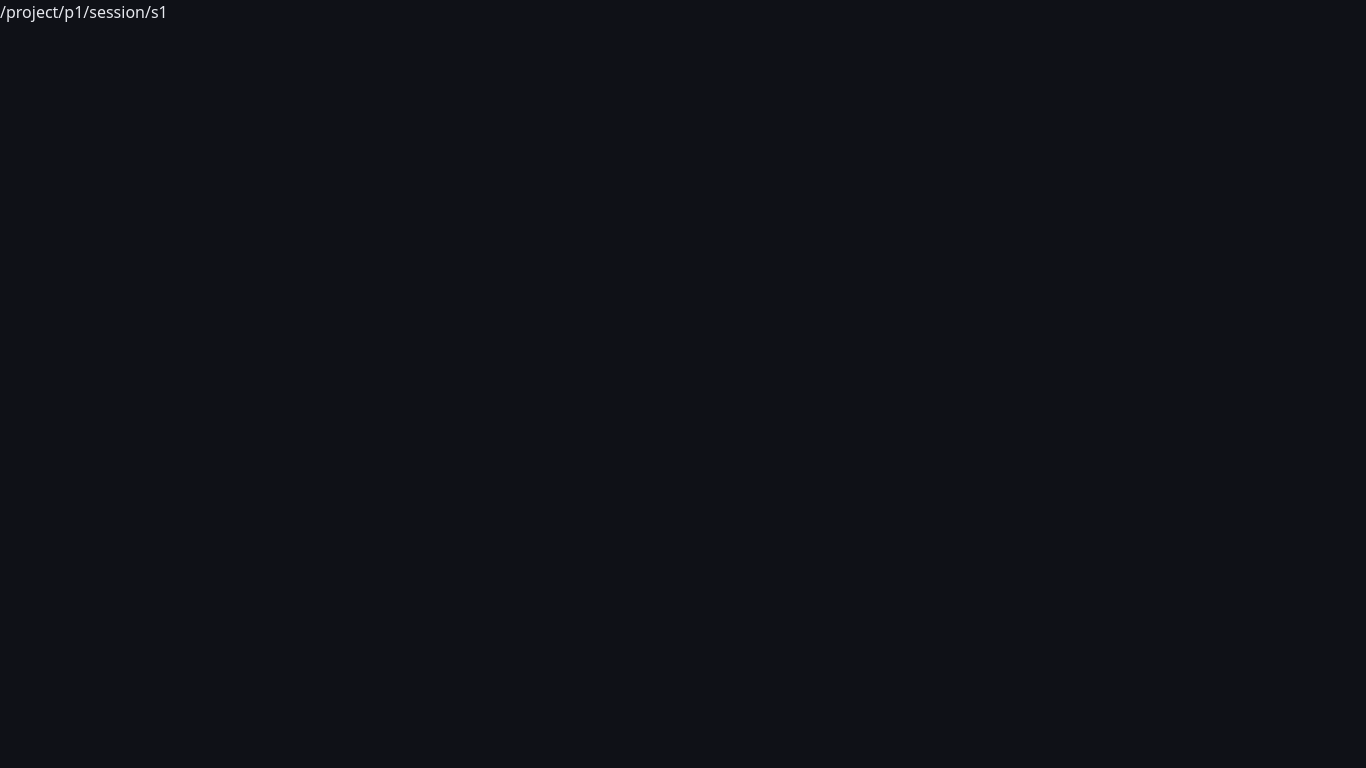
Test: opening and closing › reopens on the root view rather than where it was left
Press k
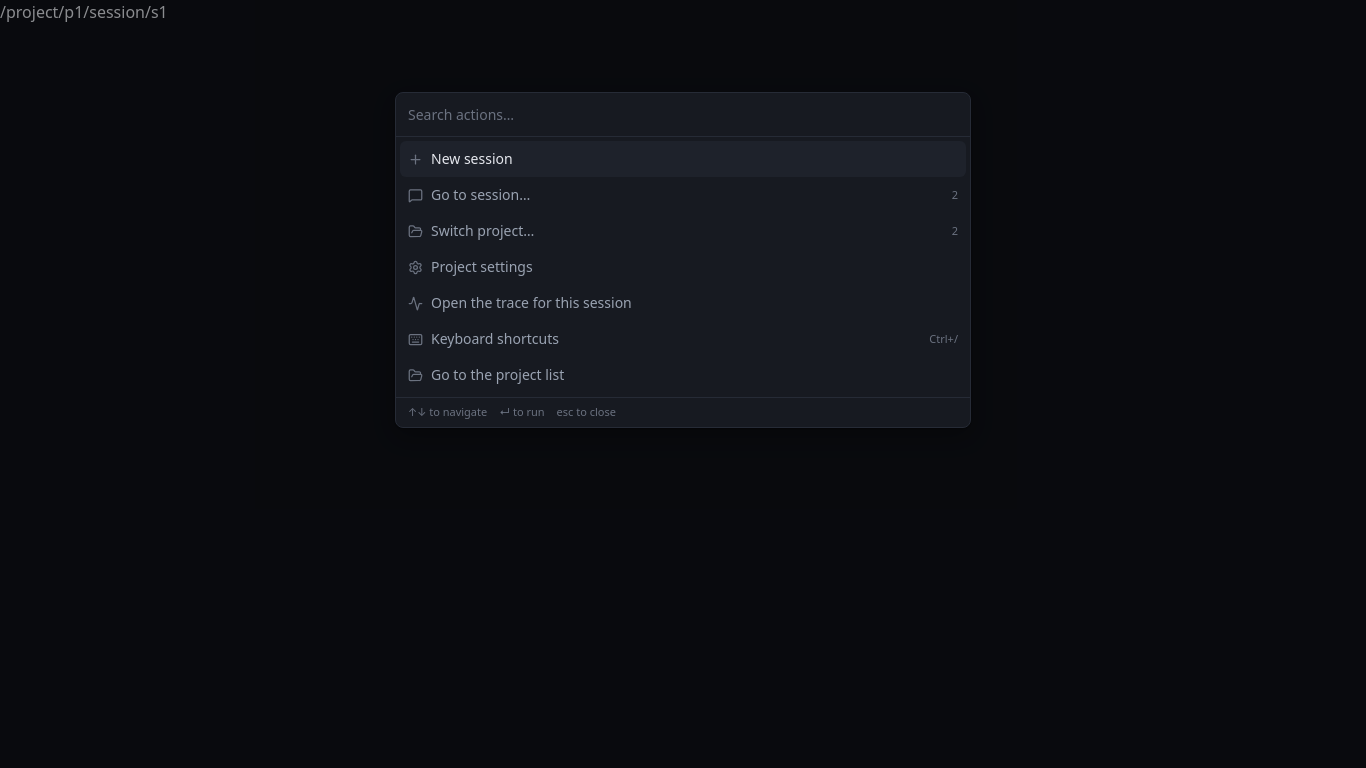
Click the text "Go to session…". click: (481, 195)
box: left=431, top=185, right=530, bottom=204
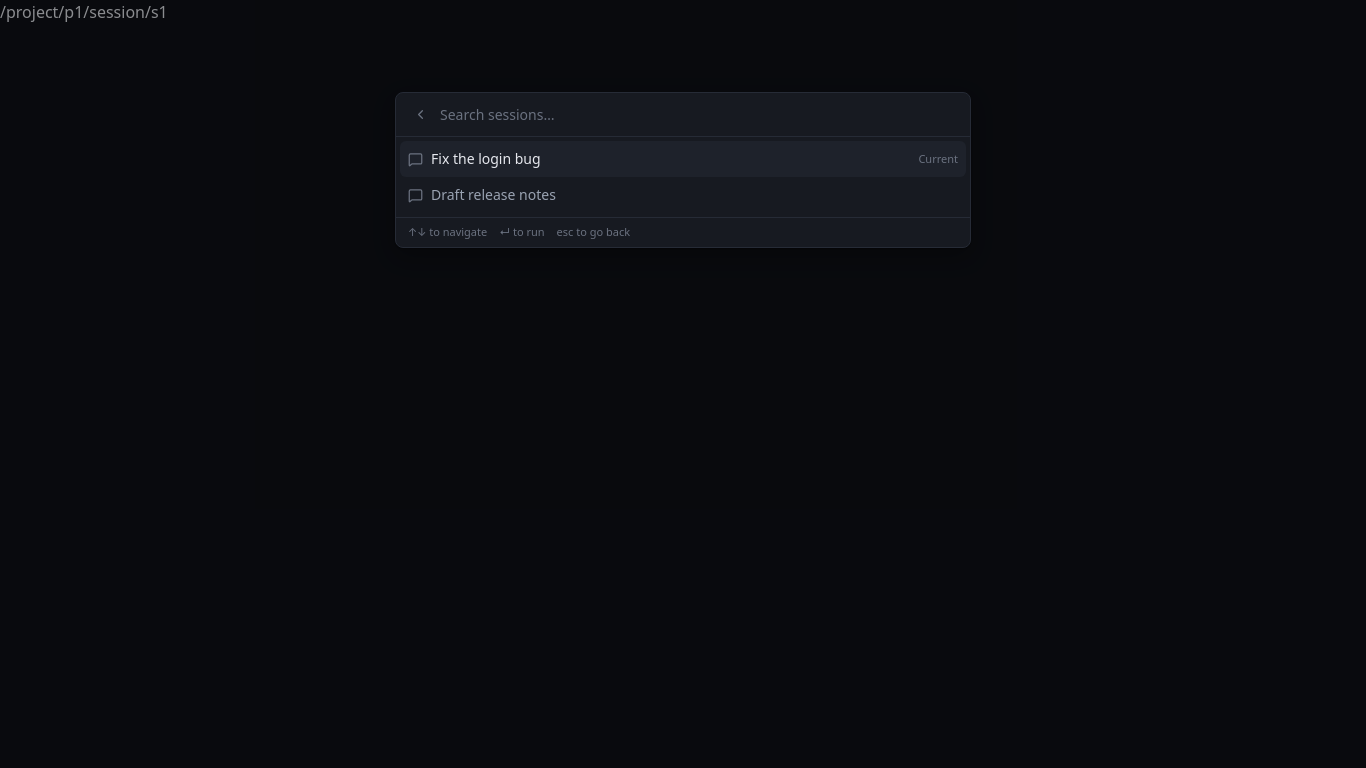
Check: the dropdown with placeholder "Search sessions…" is shown, box left=440, top=93, right=958, bottom=136
Press k
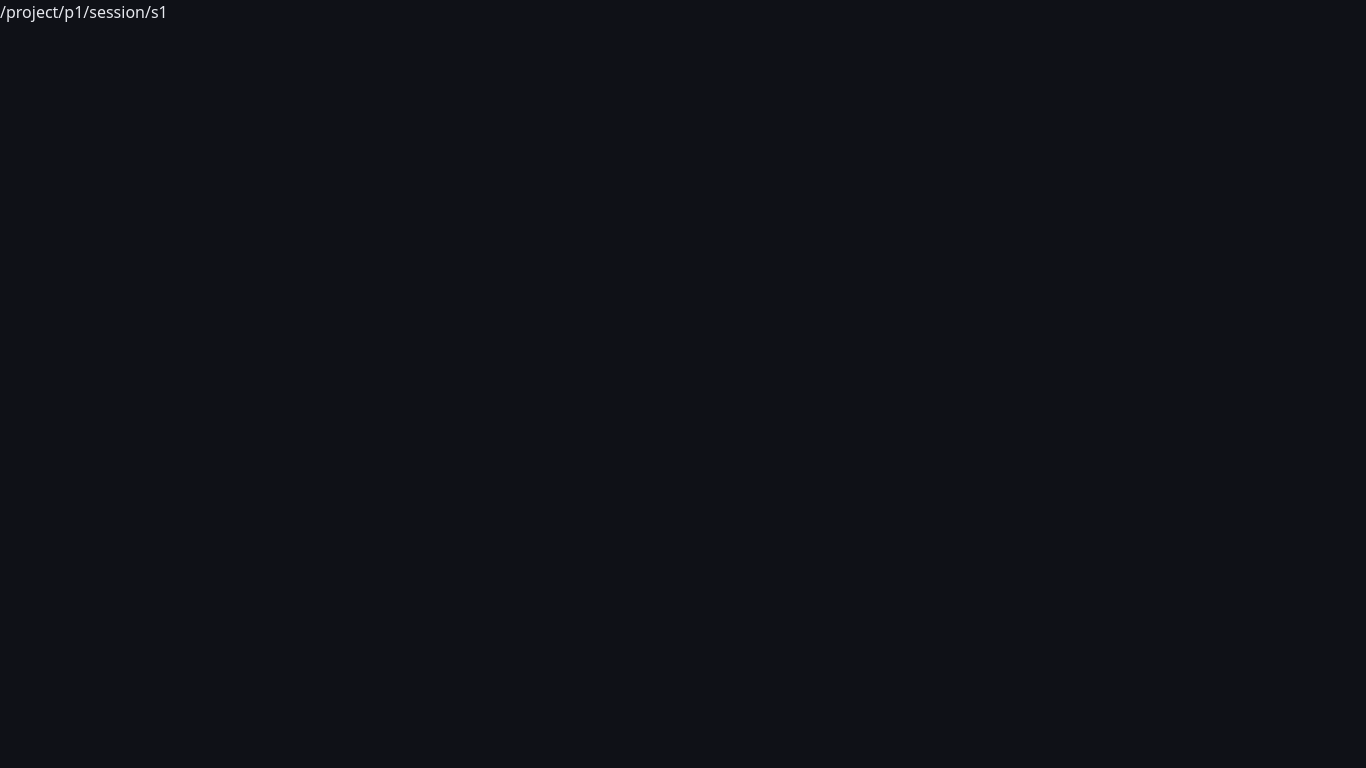
Press k
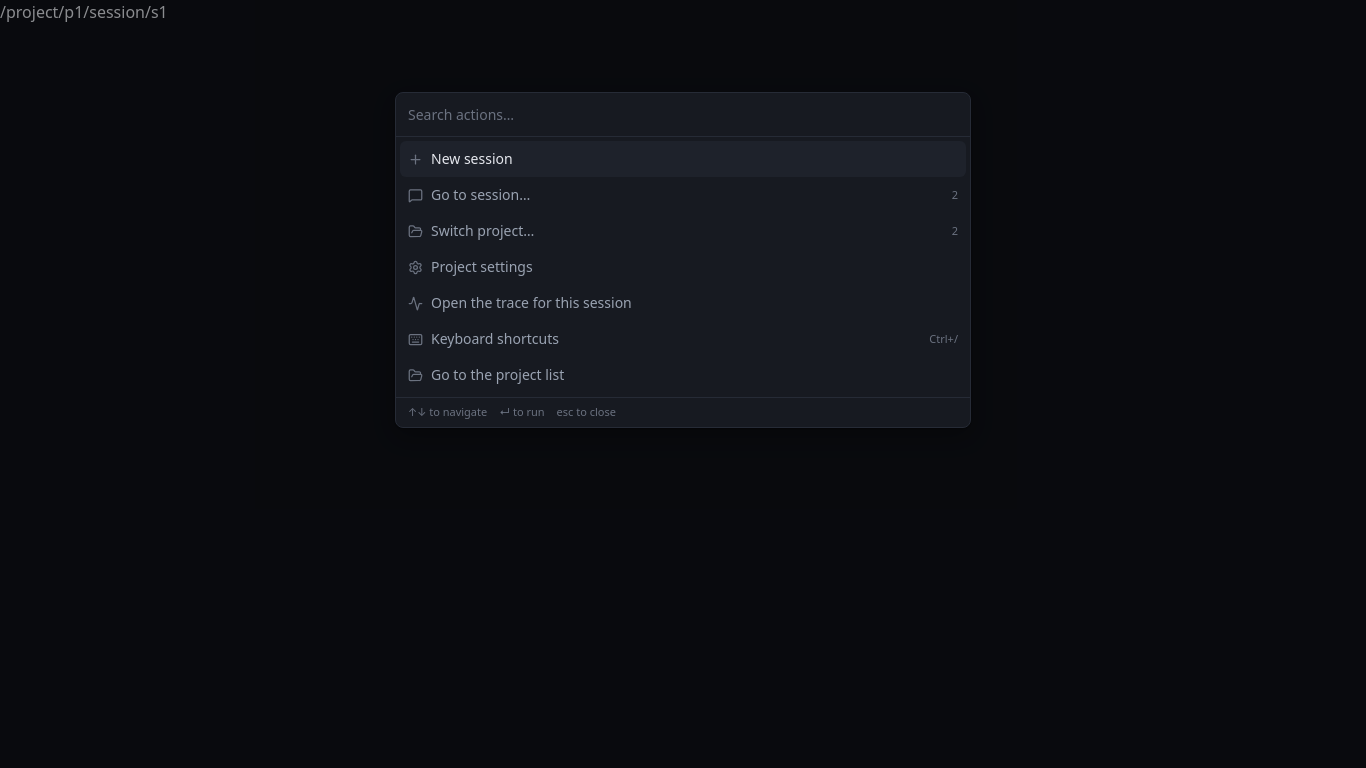
Check: the dropdown with placeholder "Search actions…" is shown, box left=408, top=93, right=958, bottom=136
